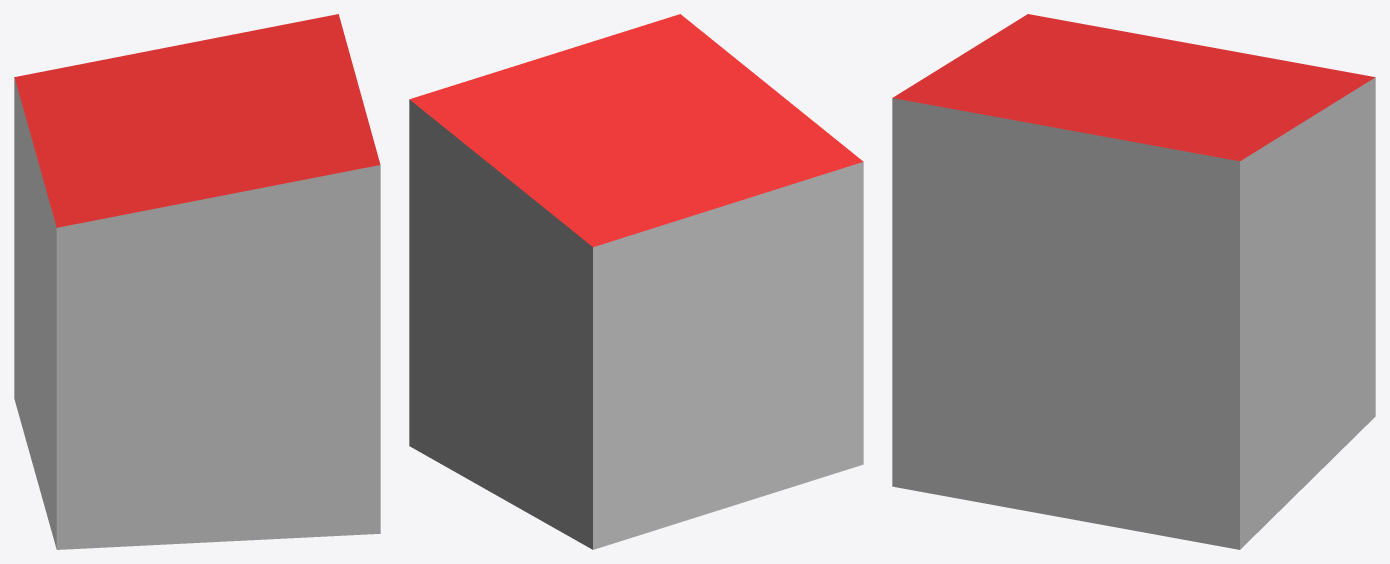
File: DEBY_LOD2_4908054.dae
3 views of the same model, side by side, from view 1: azimuth 30°, elevation 25°; view 2: azimuth 150°, elevation 25°; view 3: azimuth 270°, elevation 25° (orthographic). The views are drawn at different scales.
Size of the model in its own units: 7.48 by 7.77 by 6.89.
